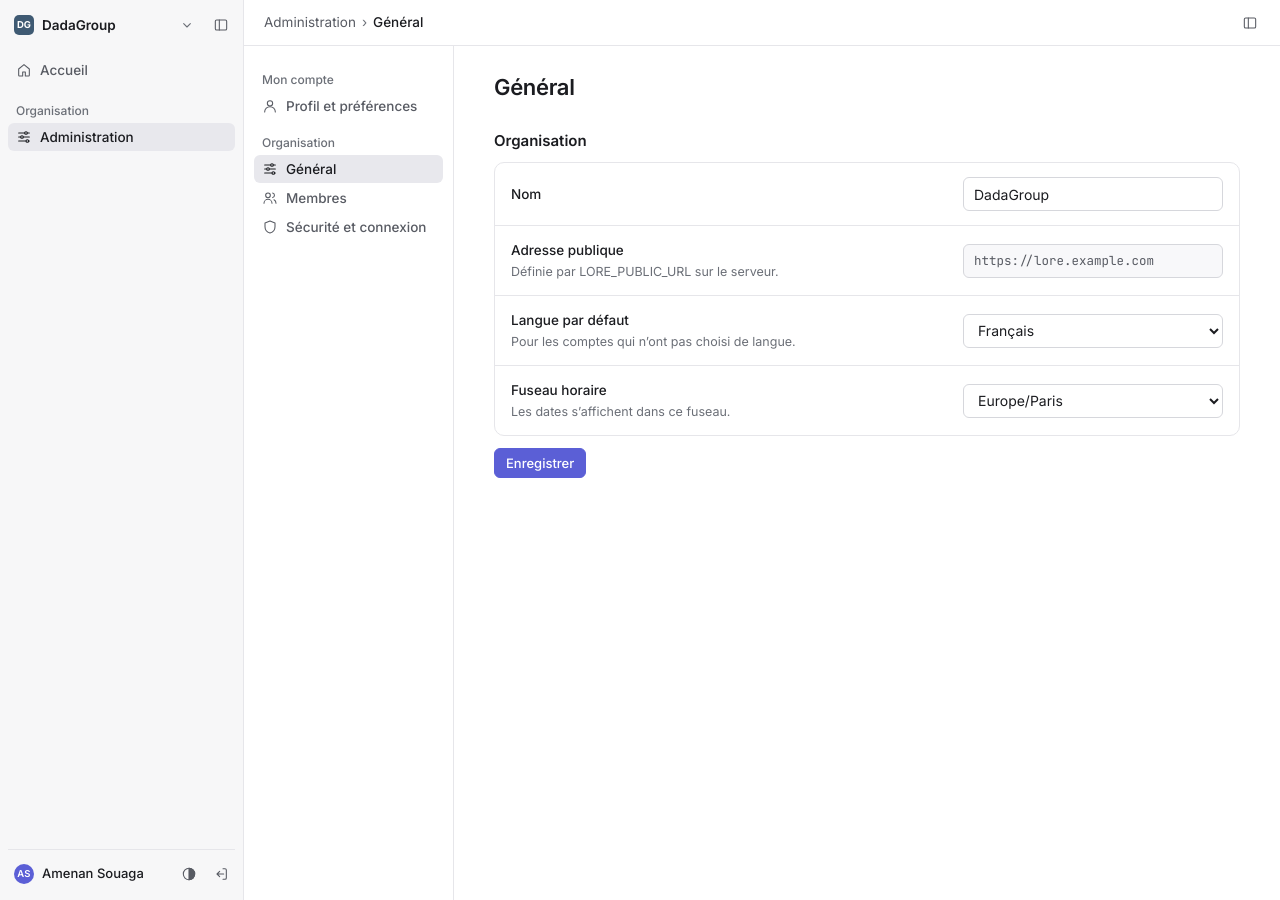
General › keeps the public address read-only when the environment sets it
Expected: the text "Définie par LORE_PUBLIC_URL sur le serveur." is shown, [511,264,779,278]
Replace the text in the field labelled "Nom" with "DadaGroup Réseaux": (1093, 194) [963,177,1223,211]
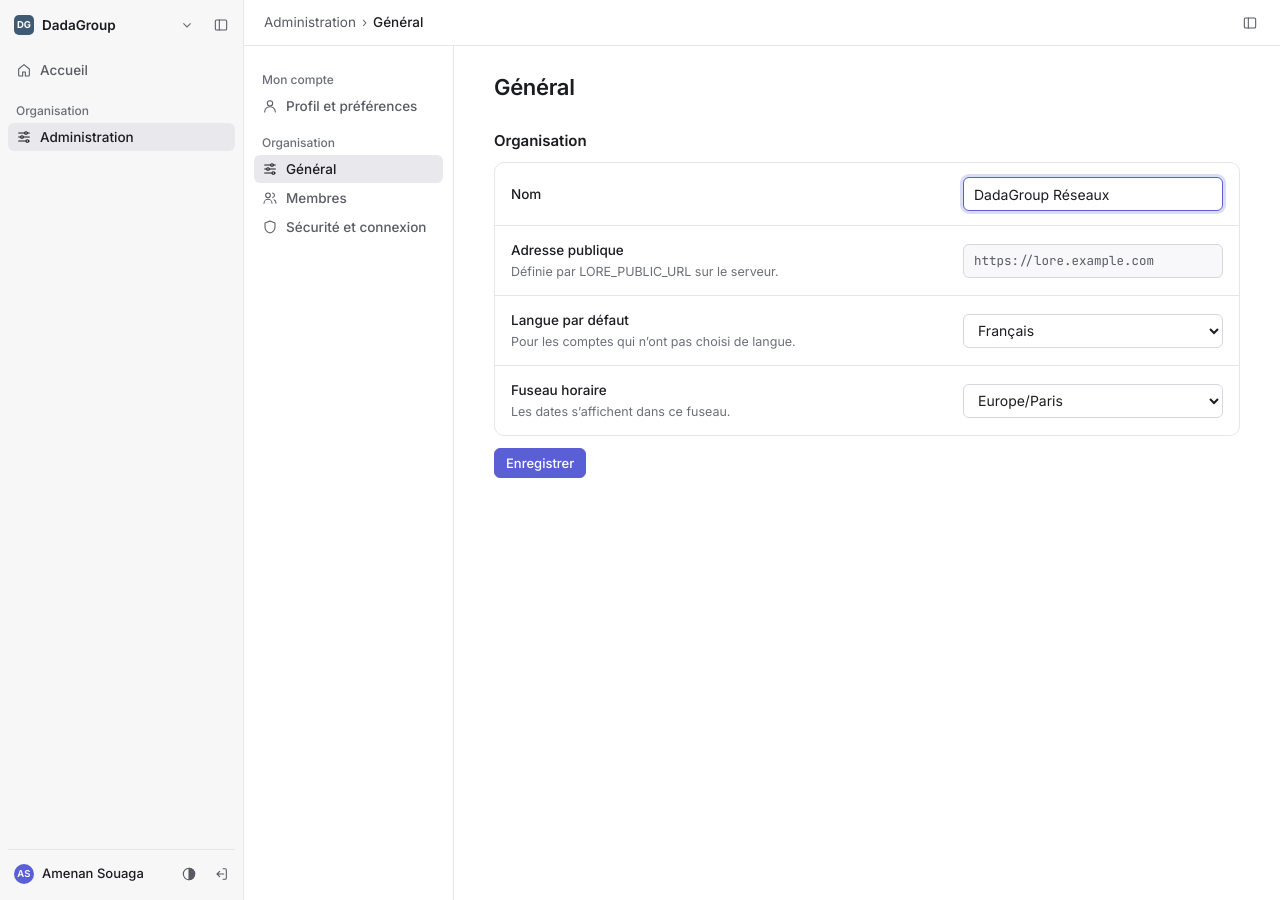
Select "English" in the dropdown labelled "Langue par défaut": (1093, 331) [963,314,1223,348]
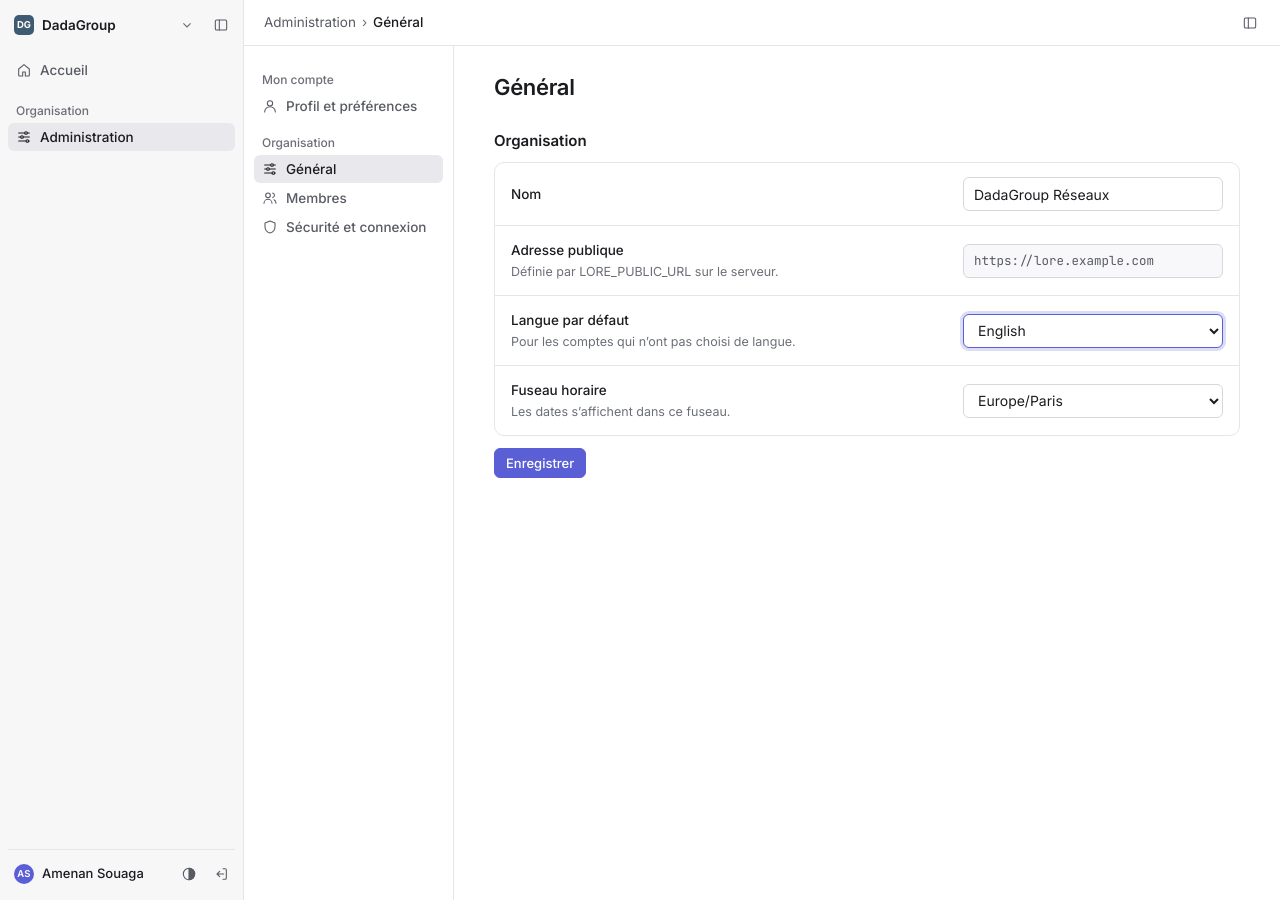
Click the button "Enregistrer": (540, 463) [494,448,586,478]
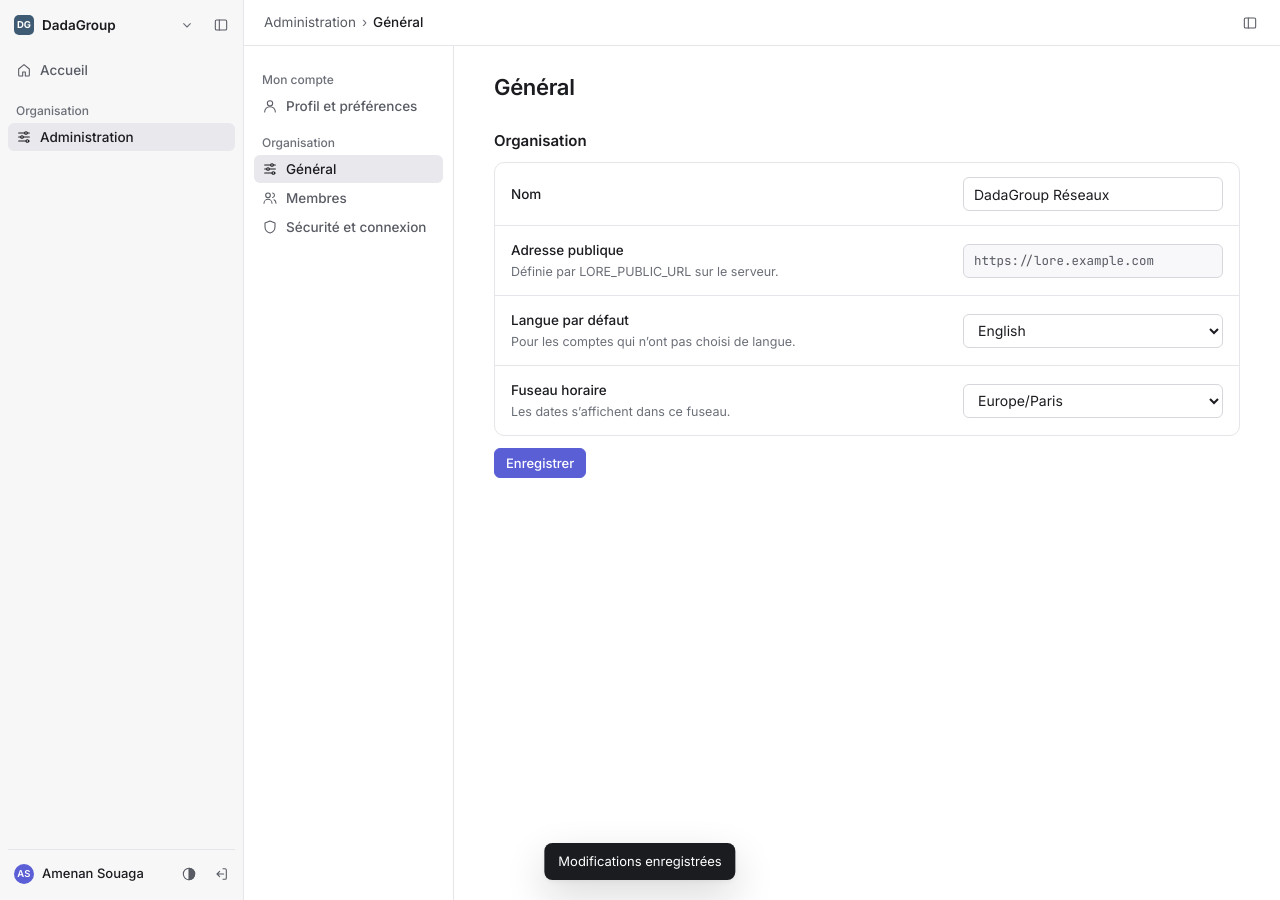
Expected: the text "Modifications enregistrées" is shown, [544,842,736,880]
